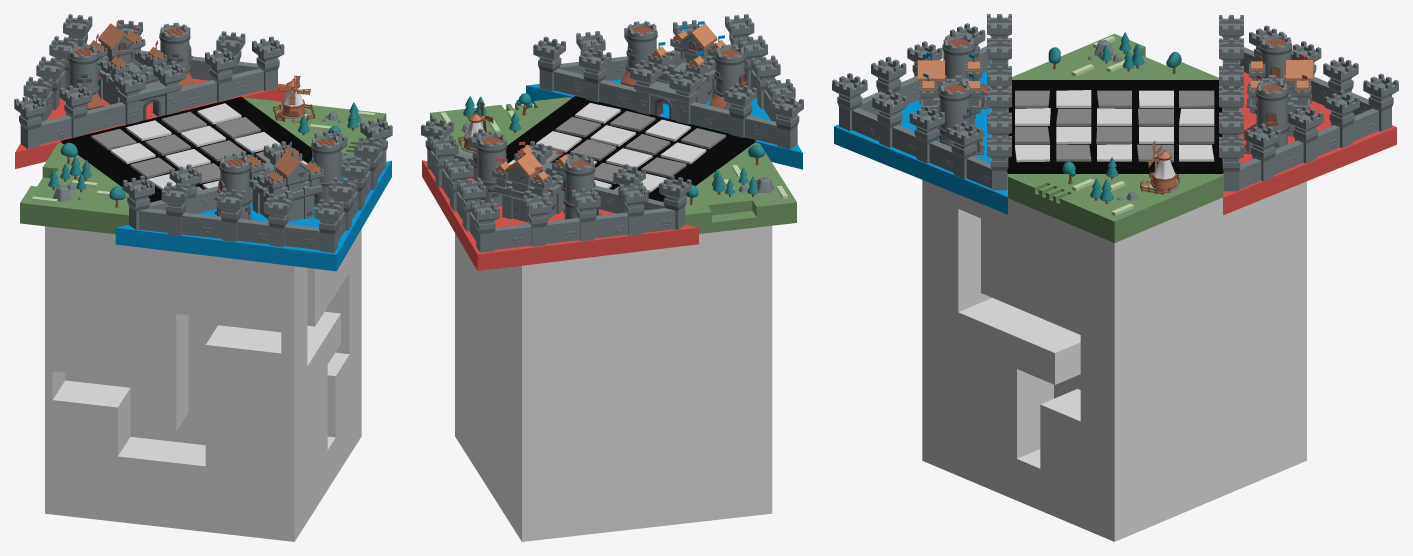
Rendered from Arena.fbx.
3 views of the same model, side by side, from view 1: azimuth 30°, elevation 25°; view 2: azimuth 150°, elevation 25°; view 3: azimuth 270°, elevation 25° (orthographic). The views are drawn at different scales.
Parts seen in each view (by area): view 1: Cube.001, Cube, Cube.003, Cube.002, castle, wall_gate.001, castle.001, wall_straight.010, wall_straight.019, wall_straight.008, wall_straight.018, wall_straight.009 (+35 smaller); view 2: Cube.001, Cube, Cube.004, Cube.002, castle.001, wall_gate, castle, wall_straight.014, wall_straight.003, wall_straight.015, wall_straight.002, wall_straight.016 (+35 smaller); view 3: Cube.001, Cube, Cube.002, Cube.004, Cube.003, wall_straight.011, castle.001, castle, wall_straight.007, watchtower.003, wall_straight.004, wall_straight.013 (+19 smaller).
Boxes of the visible parts, x1=… form: Cube.001: x1=45, y1=226, x2=361, y2=541; Cube: x1=20, y1=97, x2=386, y2=234; Cube.003: x1=115, y1=160, x2=391, y2=271; Cube.002: x1=61, y1=96, x2=311, y2=202; castle: x1=247, y1=141, x2=323, y2=221; wall_gate.001: x1=109, y1=60, x2=190, y2=126; castle.001: x1=89, y1=20, x2=166, y2=104; wall_straight.010: x1=139, y1=182, x2=222, y2=238; wall_straight.019: x1=14, y1=94, x2=71, y2=148; wall_straight.008: x1=264, y1=193, x2=320, y2=249; wall_straight.018: x1=231, y1=36, x2=284, y2=97; wall_straight.009: x1=216, y1=188, x2=269, y2=244; Cube.001: x1=455, y1=226, x2=772, y2=541; Cube: x1=430, y1=97, x2=796, y2=233; Cube.004: x1=422, y1=160, x2=698, y2=270; Cube.002: x1=506, y1=96, x2=755, y2=201; castle.001: x1=492, y1=141, x2=568, y2=222; wall_gate: x1=625, y1=60, x2=706, y2=126; castle: x1=648, y1=21, x2=729, y2=104; wall_straight.014: x1=470, y1=199, x2=531, y2=252; wall_straight.003: x1=745, y1=94, x2=803, y2=149; wall_straight.015: x1=523, y1=193, x2=580, y2=246; wall_straight.002: x1=533, y1=36, x2=585, y2=97; wall_straight.016: x1=571, y1=187, x2=628, y2=241; Cube.001: x1=922, y1=180, x2=1306, y2=541; Cube: x1=1008, y1=33, x2=1222, y2=242; Cube.002: x1=1007, y1=80, x2=1223, y2=173; Cube.004: x1=1223, y1=72, x2=1396, y2=215; Cube.003: x1=834, y1=71, x2=1007, y2=214; wall_straight.011: x1=1239, y1=123, x2=1303, y2=189; castle.001: x1=1248, y1=53, x2=1313, y2=137; castle: x1=917, y1=52, x2=982, y2=125; wall_straight.007: x1=832, y1=73, x2=879, y2=141; watchtower.003: x1=1243, y1=79, x2=1289, y2=153; wall_straight.004: x1=946, y1=121, x2=991, y2=188; wall_straight.013: x1=1324, y1=90, x2=1378, y2=147.
Size of the model in its own units: 1425 by 1441 by 1815.
